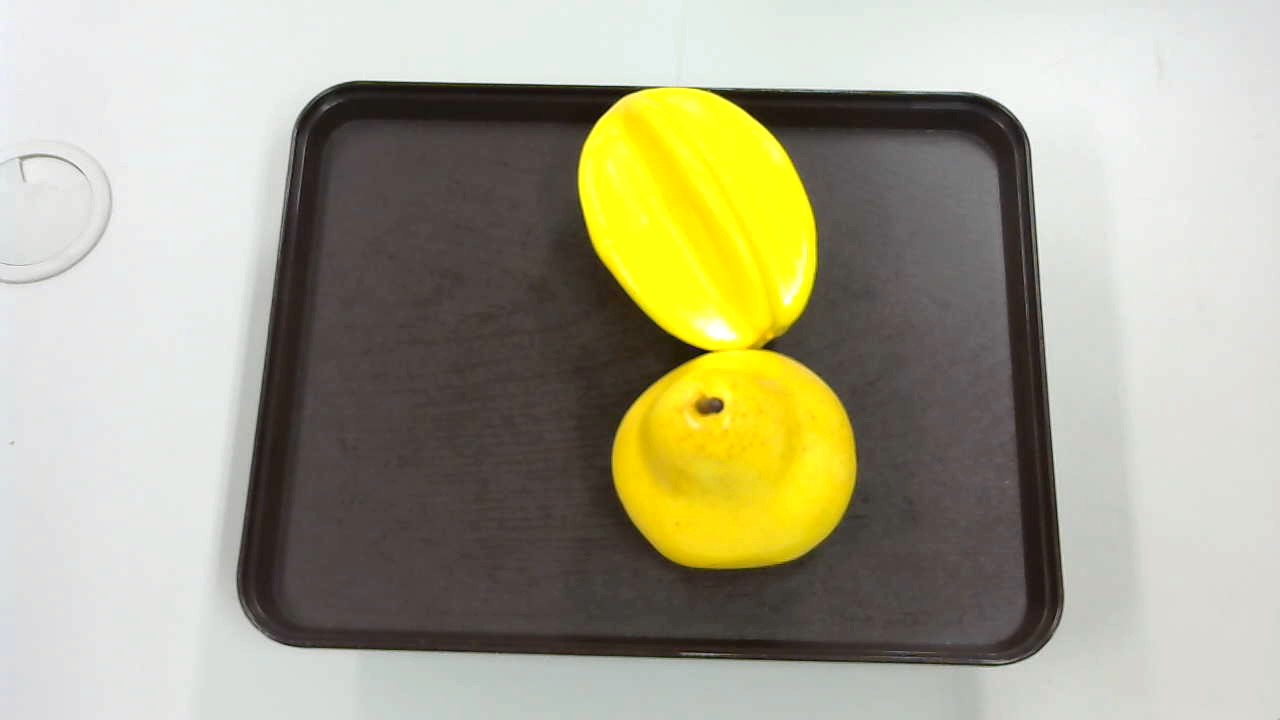star fruit: (572, 86, 824, 349)
yellow pear: (602, 342, 866, 576)
